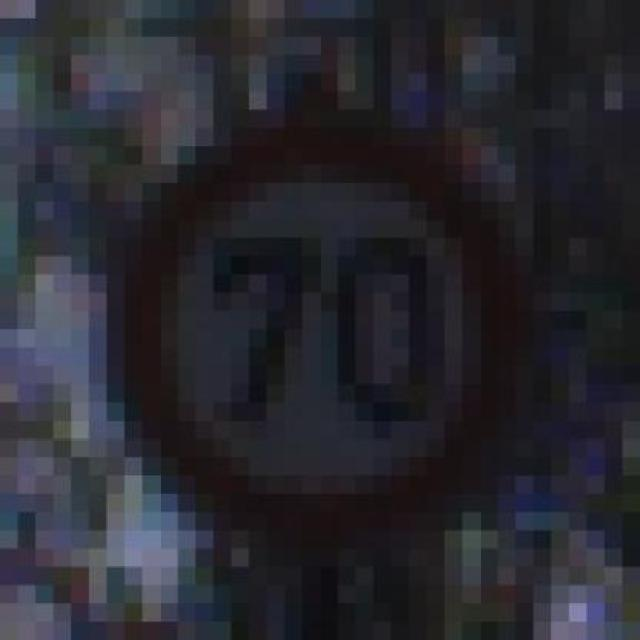forb_speed_over_70: (132, 119, 516, 536)
